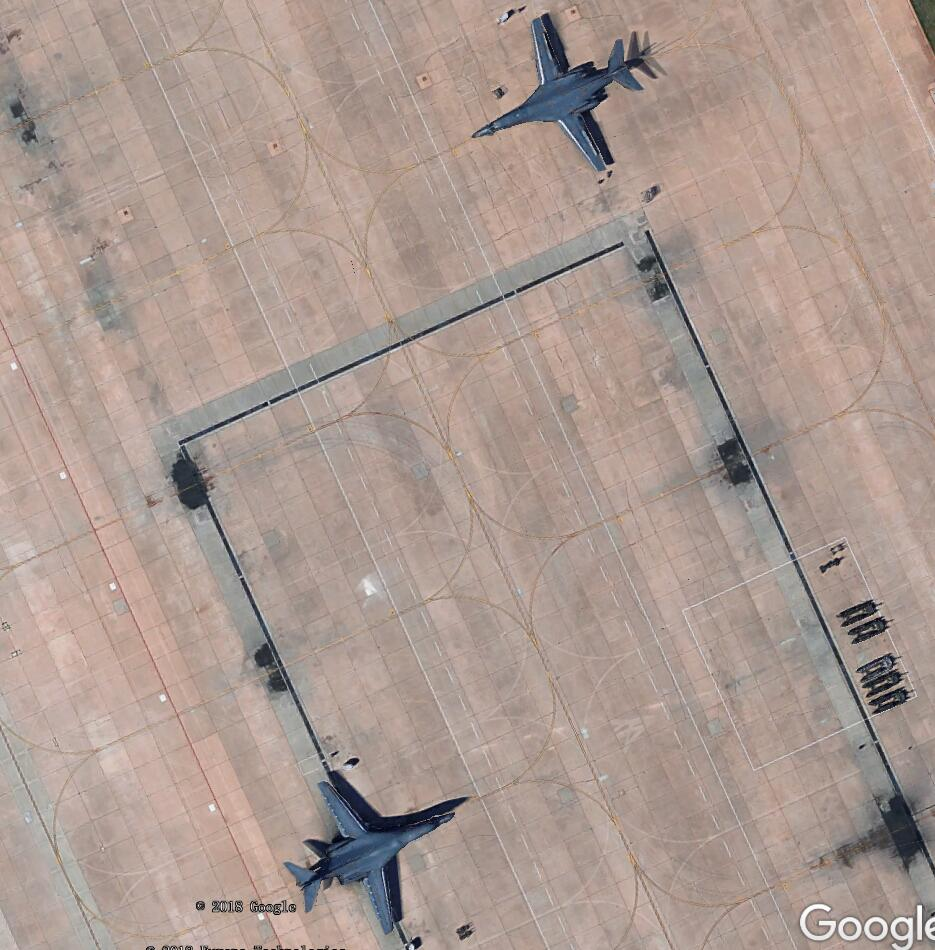A10: (468, 16, 667, 184), (281, 779, 473, 936)
